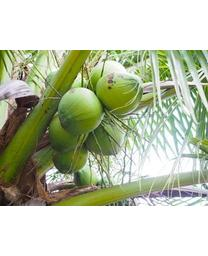coconut: (95, 69, 147, 115), (56, 88, 104, 132), (85, 119, 123, 152), (47, 116, 82, 146), (53, 147, 88, 171)
